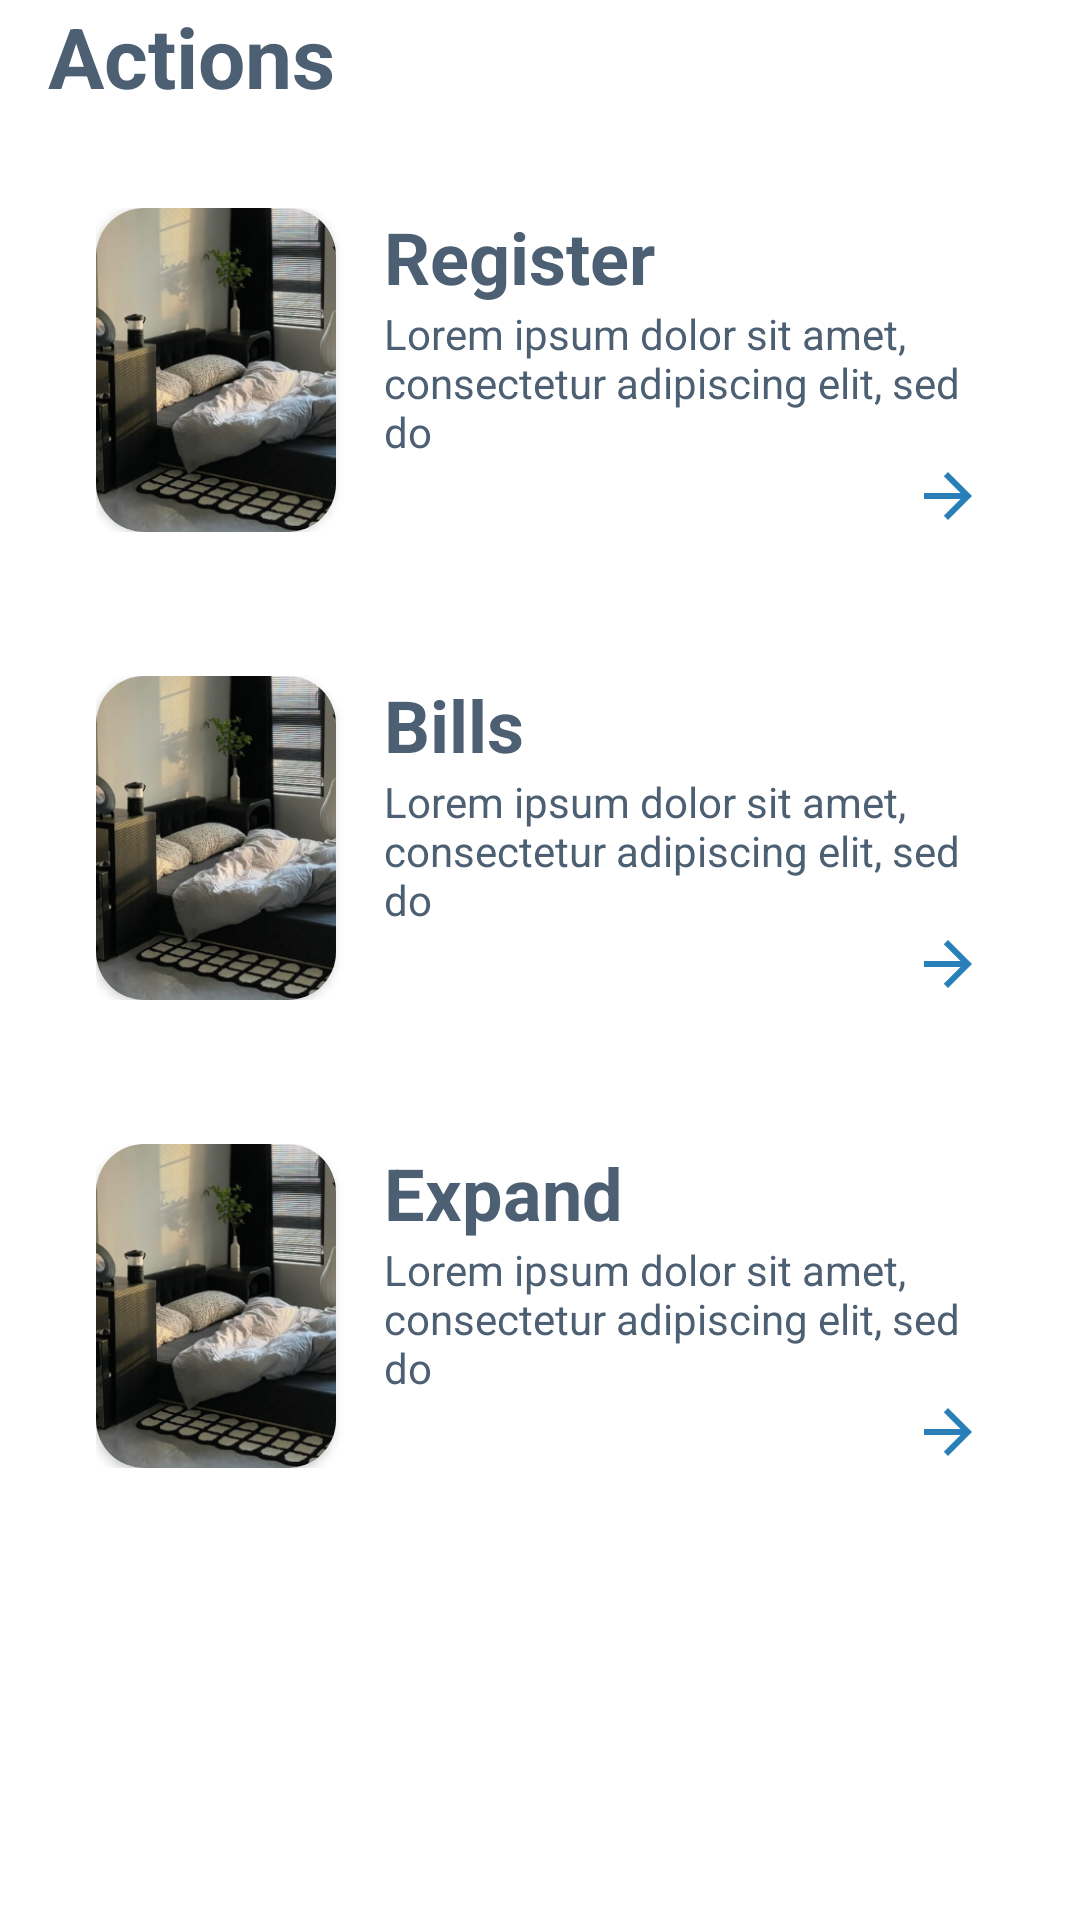

Screen size 1080 × 1920. Icon name, then its center in pixels as (x=x, y=y):
arrow forward: (x=948, y=496), (x=948, y=964), (x=948, y=1432)
